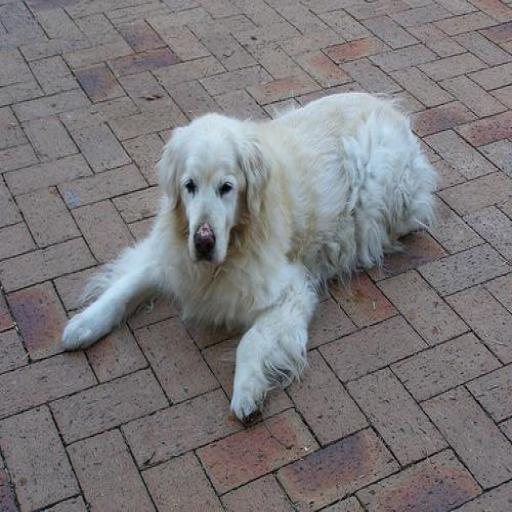dog_face: (160, 113, 273, 268)
